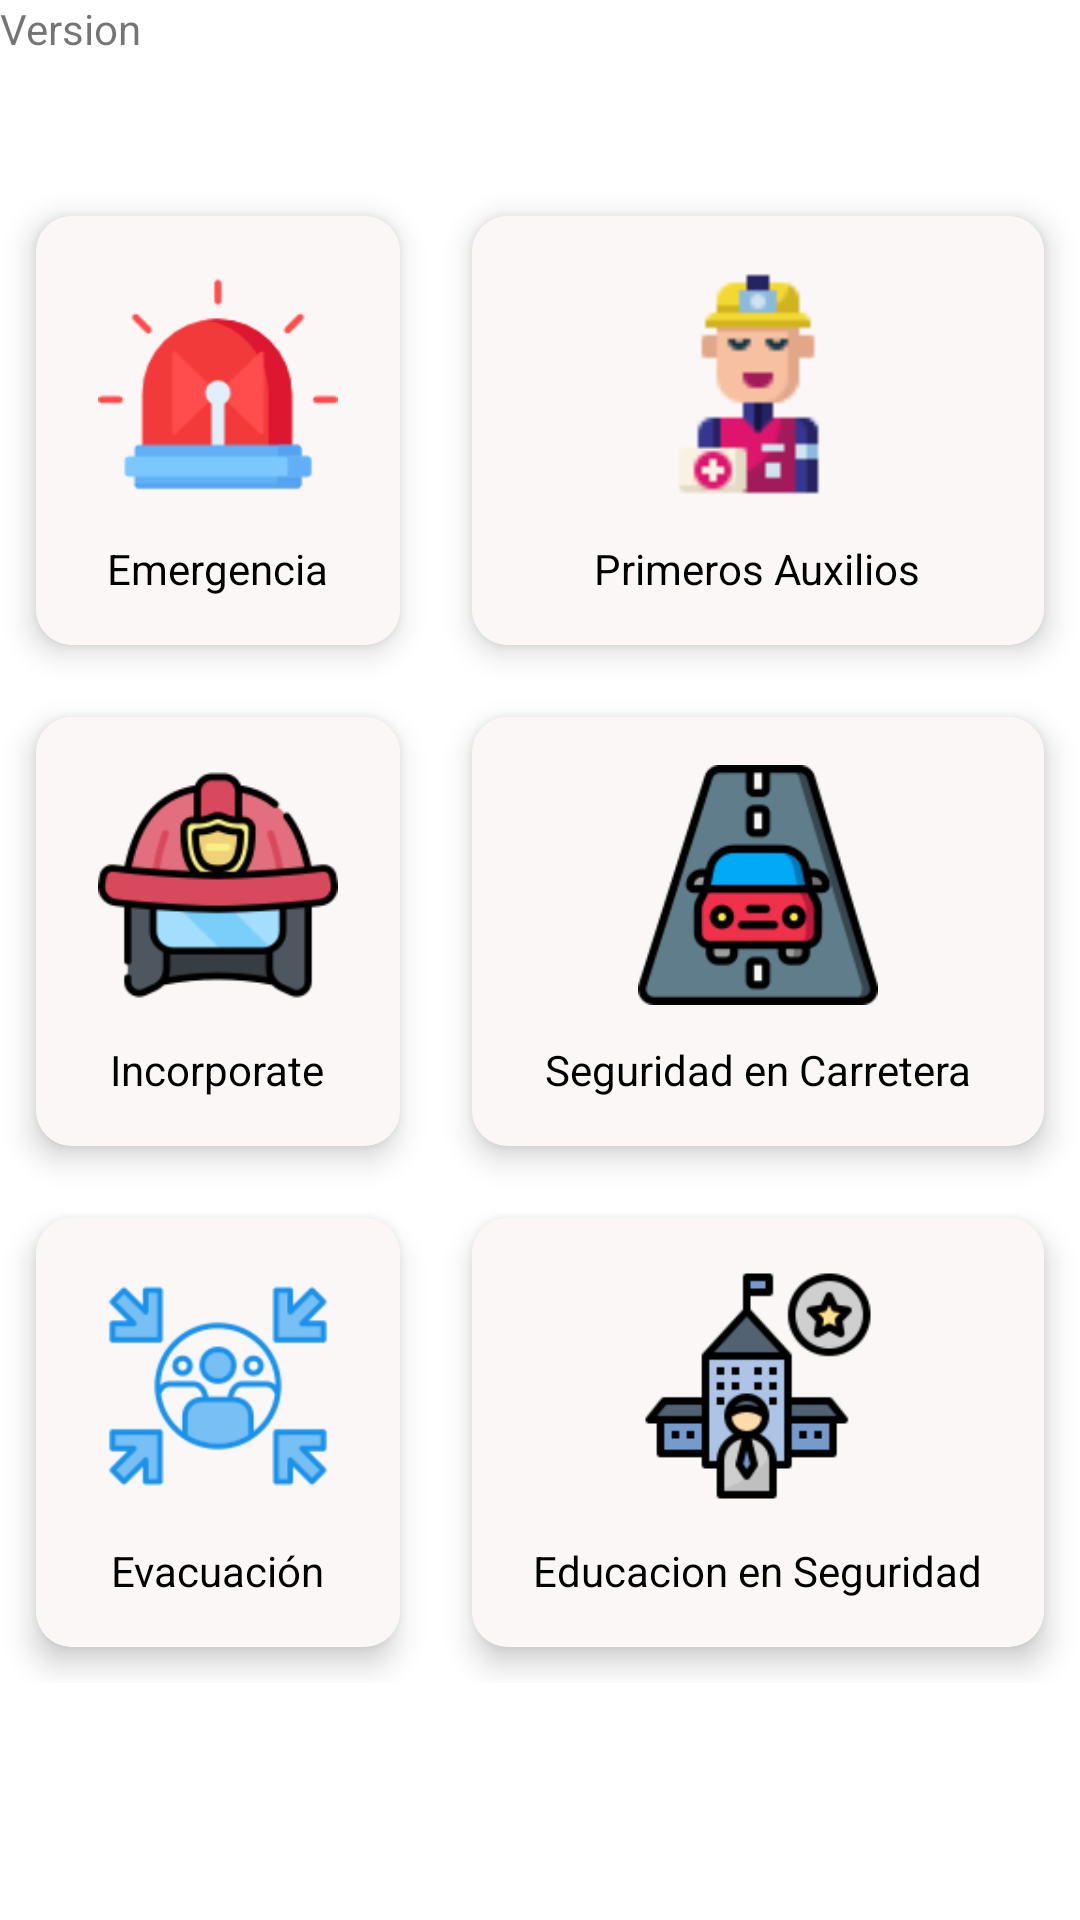

Icons on this 1080x1920 Android screen, each with the point to tap as [x,y]:
cascobombero: [218,885]
coches: [758,885]
rescatep: [749,384]
sirenax: [218,384]
universidad: [758,1386]
